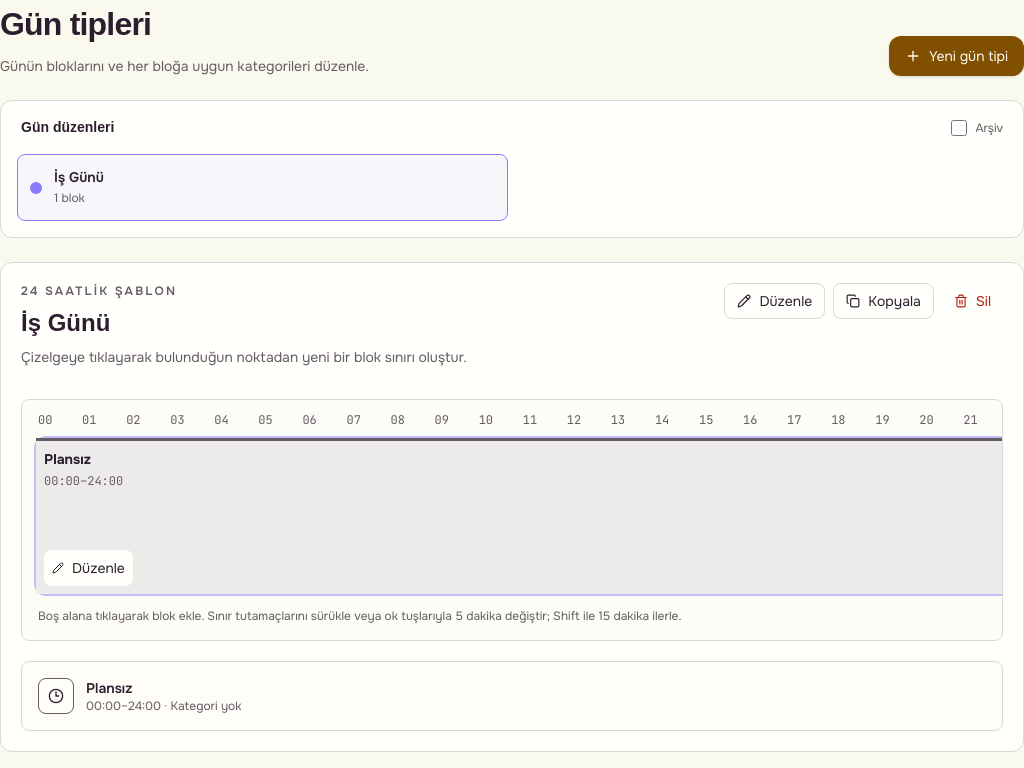
Test: day types page › opens the day type creation dialog
The width and height of the screenshot is (1024, 768).
Step 1. Click the button "Yeni gün tipi" → [956, 56], box [889,36,1023,76]
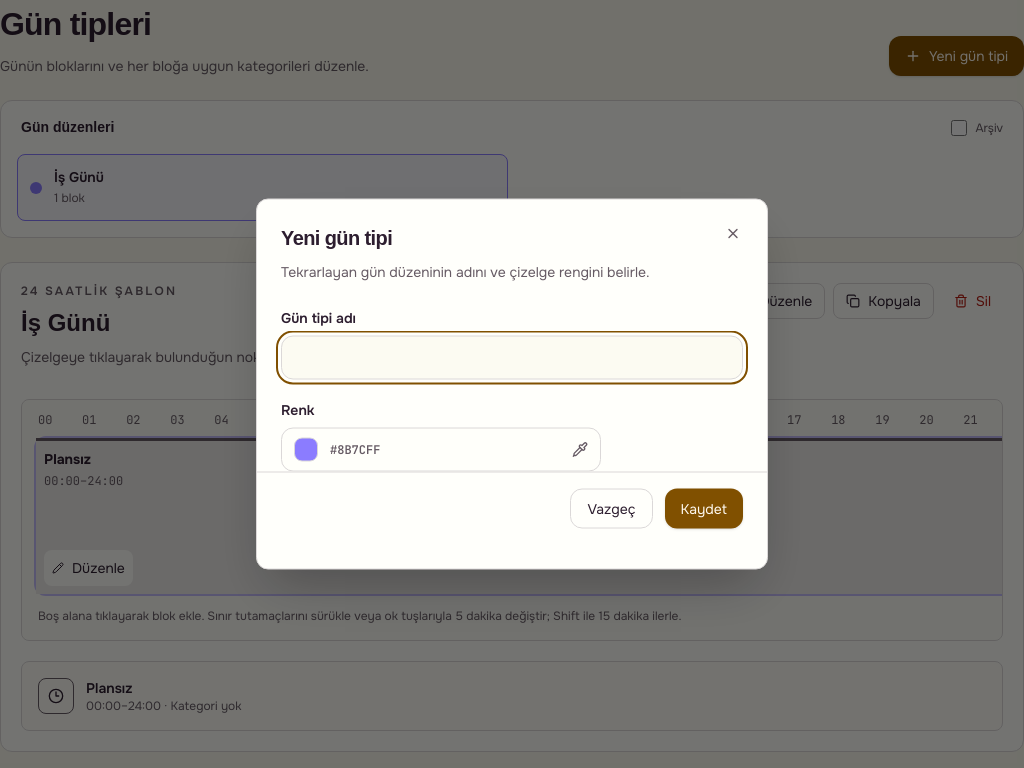
expect the dialog is shown: met, box [256,198,768,570]
expect the heading "Yeni gün tipi" is shown: met, box [281,226,392,248]
